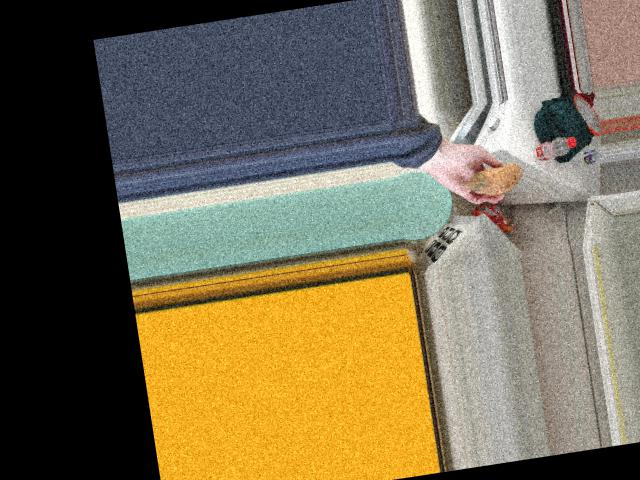sweet_potato: (458, 158, 528, 196)
